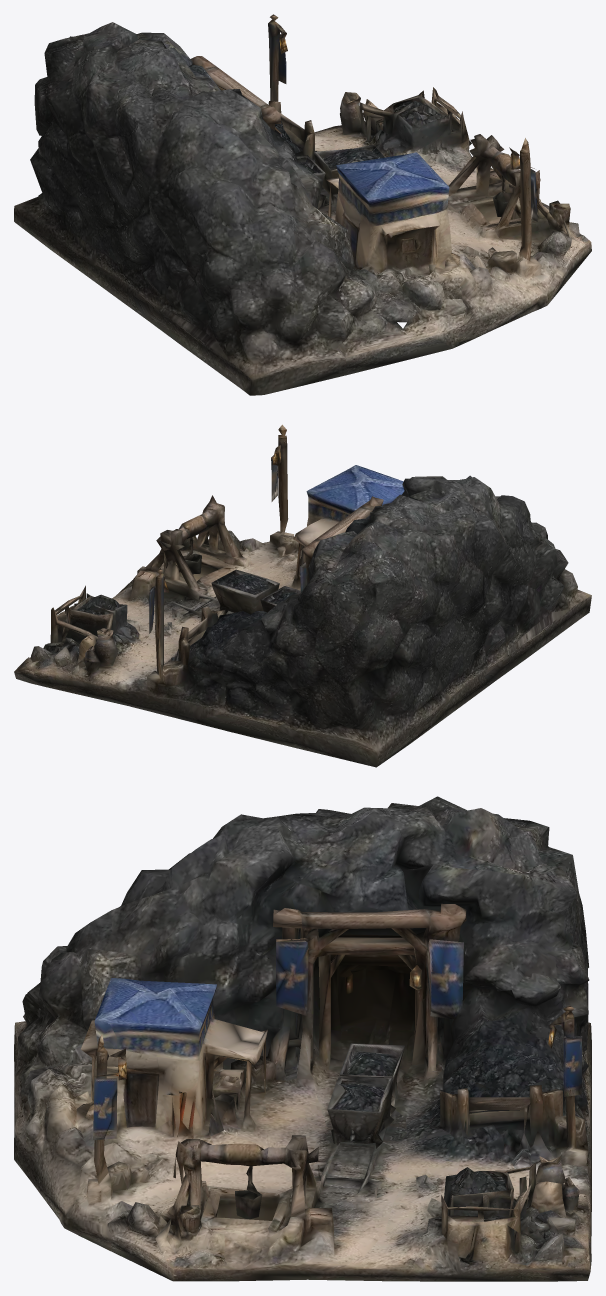
File: coal_mine_0.glb
3 renders of one model, top to bottom at view 1: azimuth 30°, elevation 25°; view 2: azimuth 150°, elevation 25°; view 3: azimuth 270°, elevation 25°, orthographic. The views are drawn at different scales.
Parts seen in each view (by area): view 1: tripo_node_57624f5d-dbde-4bba-adf3-eaa2a71d4e0d; view 2: tripo_node_57624f5d-dbde-4bba-adf3-eaa2a71d4e0d; view 3: tripo_node_57624f5d-dbde-4bba-adf3-eaa2a71d4e0d.
Boxes of the visible parts, box(x1,y1,x2,y2) form: tripo_node_57624f5d-dbde-4bba-adf3-eaa2a71d4e0d: box(14, 14, 591, 395); tripo_node_57624f5d-dbde-4bba-adf3-eaa2a71d4e0d: box(14, 424, 591, 767); tripo_node_57624f5d-dbde-4bba-adf3-eaa2a71d4e0d: box(14, 796, 591, 1281).
Size of the model in its own units: 0.9821 by 0.5025 by 0.9783.
1 material, 1 textured.
